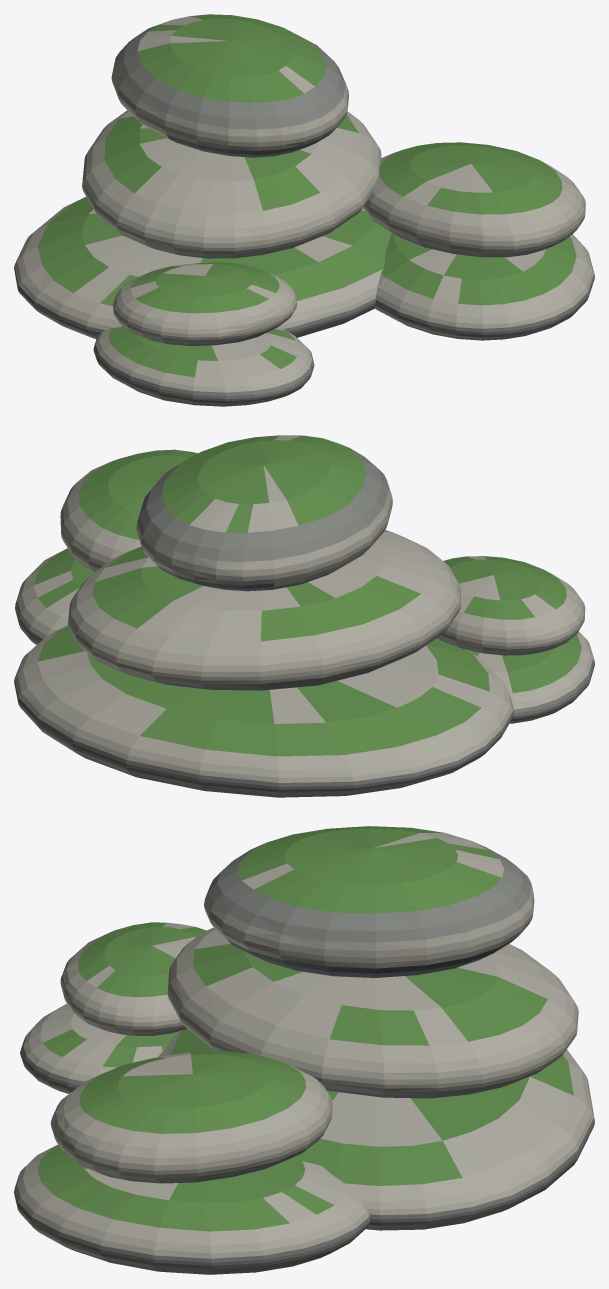
The model's file is RockOutcrop.obj.
3 renders of one model, top to bottom at view 1: azimuth 30°, elevation 25°; view 2: azimuth 150°, elevation 25°; view 3: azimuth 270°, elevation 25°, orthographic. The views are drawn at different scales.
Size of the model in its own units: 8.08 by 4.12 by 7.13.
